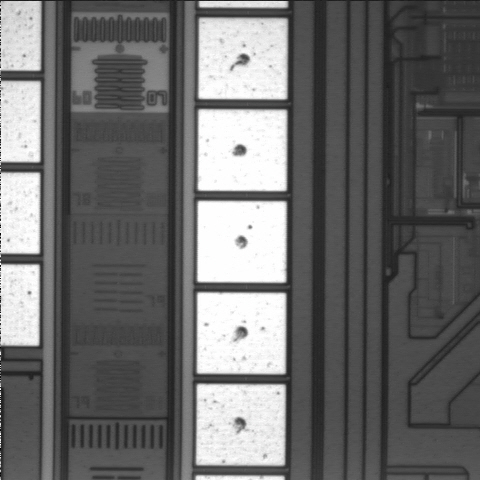pad: (198, 109, 287, 191), (197, 201, 286, 283), (197, 292, 286, 374), (196, 384, 285, 466), (198, 18, 287, 99)
